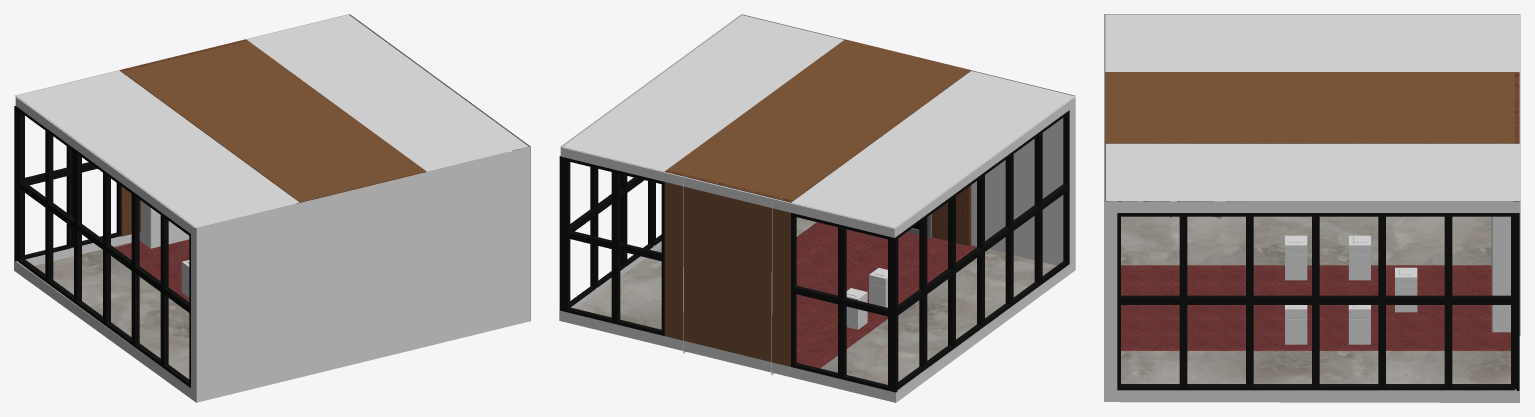
File: DemoRoom.fbx
The picture shows the model from 3 angles, left to right: view 1: azimuth 30°, elevation 25°; view 2: azimuth 150°, elevation 25°; view 3: azimuth 270°, elevation 25°; orthographic projection. The views are drawn at different scales.
Visible parts, largest first — view 1: Wall, Ceiling, WoodWall, WindowCill, Floor, Wall2, Rug, Cube; view 2: WoodWall, Ceiling, WindowCill, Wall2, Floor, Rug, Wall, Podium_Cube.027; view 3: Ceiling, WoodWall, Floor, Rug, WindowCill, Wall2, Podium_Cube.027, Cube, Plane.
Boxes of the visible parts, left/top/right/bottom form: Wall: left=196, top=146, right=530, bottom=402; Ceiling: left=14, top=14, right=528, bottom=227; WoodWall: left=119, top=39, right=426, bottom=236; WindowCill: left=14, top=106, right=519, bottom=387; Floor: left=25, top=242, right=189, bottom=378; Wall2: left=14, top=14, right=530, bottom=402; Rug: left=114, top=239, right=189, bottom=301; Cube: left=139, top=200, right=189, bottom=248; WoodWall: left=664, top=39, right=971, bottom=366; Ceiling: left=561, top=15, right=1075, bottom=228; WindowCill: left=559, top=110, right=1069, bottom=392; Wall2: left=559, top=14, right=1075, bottom=402; Floor: left=576, top=217, right=1056, bottom=391; Rug: left=796, top=222, right=976, bottom=368; Wall: left=741, top=14, right=1074, bottom=265; Podium_Cube.027: left=846, top=268, right=887, bottom=329; Ceiling: left=1105, top=14, right=1520, bottom=200; WoodWall: left=1105, top=72, right=1519, bottom=201; Floor: left=1121, top=216, right=1516, bottom=390; Rug: left=1121, top=265, right=1510, bottom=350; WindowCill: left=1117, top=201, right=1519, bottom=390; Wall2: left=1104, top=14, right=1519, bottom=402; Podium_Cube.027: left=1285, top=235, right=1417, bottom=344; Cube: left=1491, top=201, right=1520, bottom=336; Plane: left=1123, top=201, right=1512, bottom=218.
Bounding box in the file's own units: 884 × 445 × 824.
